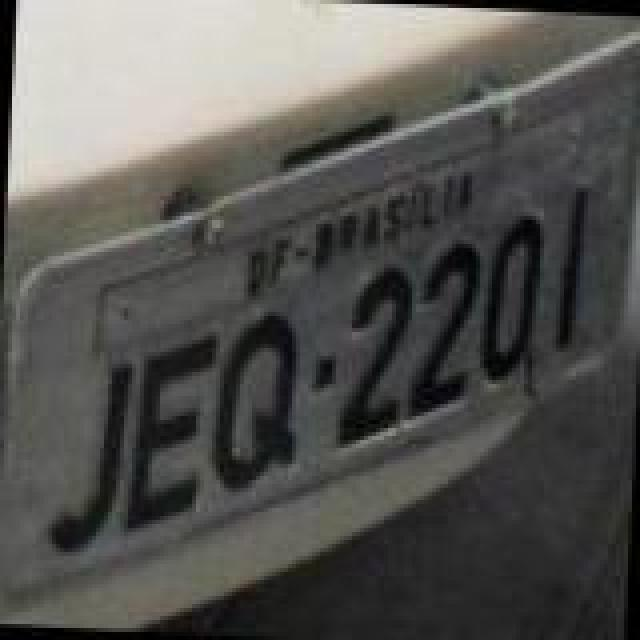1: (544, 180, 592, 356)
2: (334, 262, 418, 458), (402, 234, 486, 422)
E: (116, 326, 220, 538)
J: (40, 352, 136, 560)
O: (474, 206, 550, 386)
Q: (212, 304, 308, 496)
